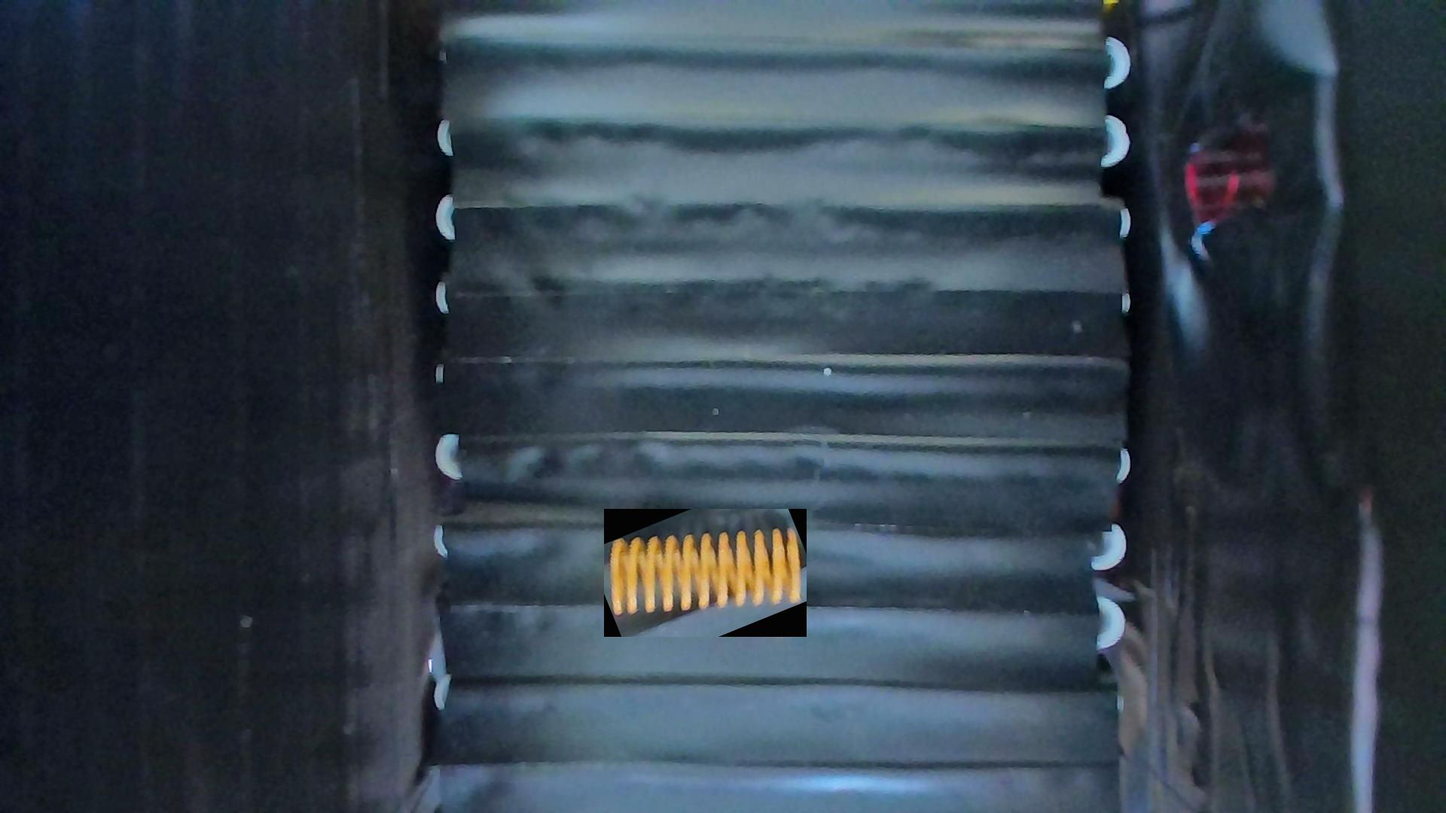spring: (604, 509, 807, 638)
